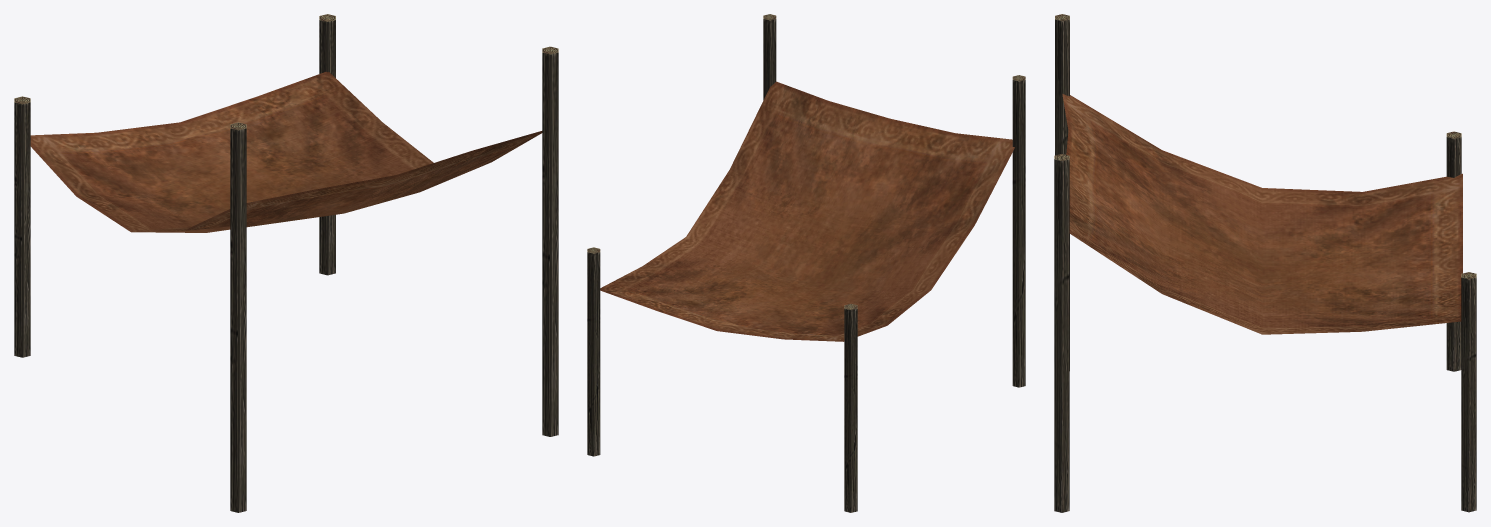
File: Shed03_Build_001.FBX
The picture shows the model from 3 angles, left to right: view 1: azimuth 30°, elevation 25°; view 2: azimuth 150°, elevation 25°; view 3: azimuth 270°, elevation 25°; orthographic projection. The views are drawn at different scales.
Visible parts, largest first — view 1: Shed03_Build_001; view 2: Shed03_Build_001; view 3: Shed03_Build_001.
Part boxes in pixels (box(x1,y1,x2,y2)): Shed03_Build_001: box(14, 14, 558, 512); Shed03_Build_001: box(587, 14, 1025, 512); Shed03_Build_001: box(1054, 14, 1476, 512).
Size of the model in its own units: 424 by 468 by 509.
